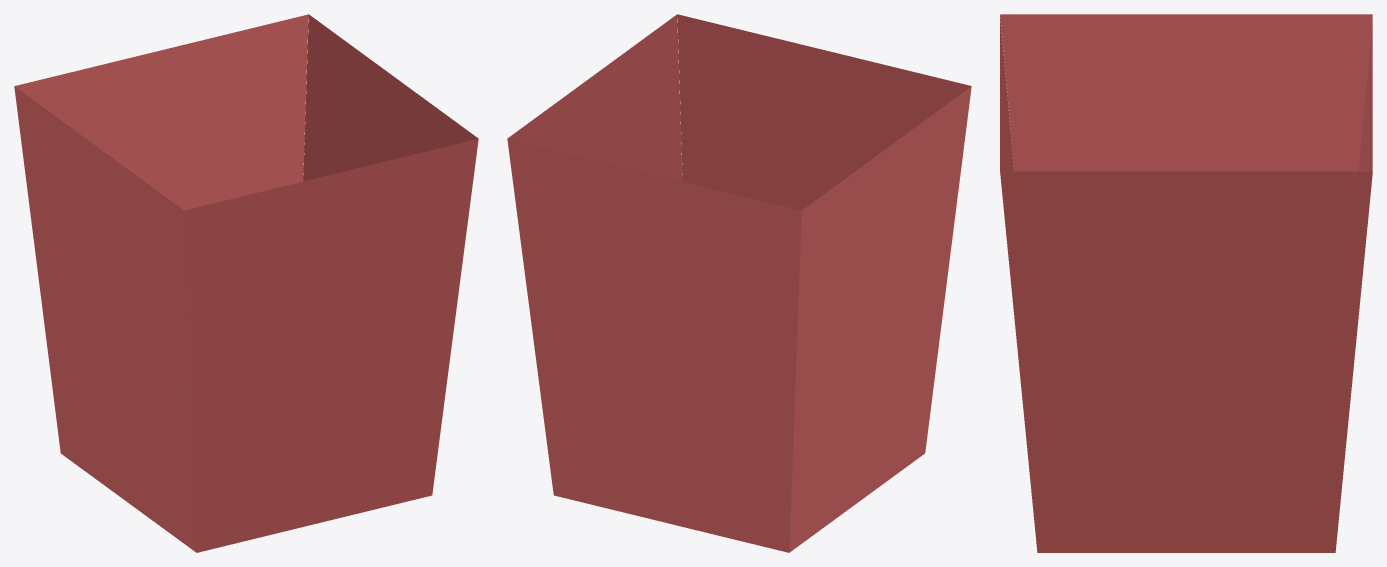
The model's file is koopa3_map.glb.
The picture shows the model from 3 angles, left to right: view 1: azimuth 30°, elevation 25°; view 2: azimuth 150°, elevation 25°; view 3: azimuth 270°, elevation 25°; orthographic projection. The views are drawn at different scales.
Visible parts, largest first — view 1: koopa3_map_col; view 2: koopa3_map_col; view 3: koopa3_map_col.
Boxes of the visible parts, x1,y1,x2,y2 form: koopa3_map_col: (14, 14, 478, 552); koopa3_map_col: (507, 14, 971, 552); koopa3_map_col: (1000, 14, 1372, 552).
Bounding box in the file's own units: 20.01 × 23.54 × 20.01.
